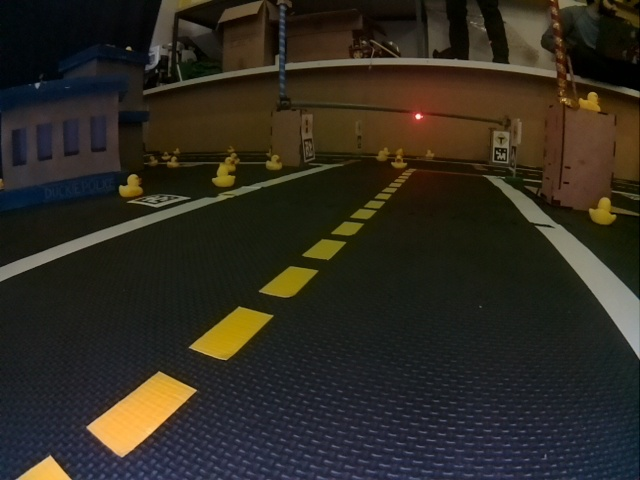Duckie: (589, 197, 616, 224), (119, 174, 142, 197), (579, 91, 602, 113), (212, 167, 233, 187), (267, 156, 281, 170), (221, 157, 235, 170), (393, 156, 407, 168), (148, 156, 158, 166), (377, 151, 386, 160), (168, 158, 178, 166), (397, 149, 405, 158), (426, 151, 433, 157)
Intersection sign: (495, 133, 507, 145)
QR code: (132, 195, 189, 206), (303, 139, 315, 161), (494, 148, 508, 162)
Signal sign: (304, 116, 312, 134)
Traffic light: (414, 110, 424, 122)
